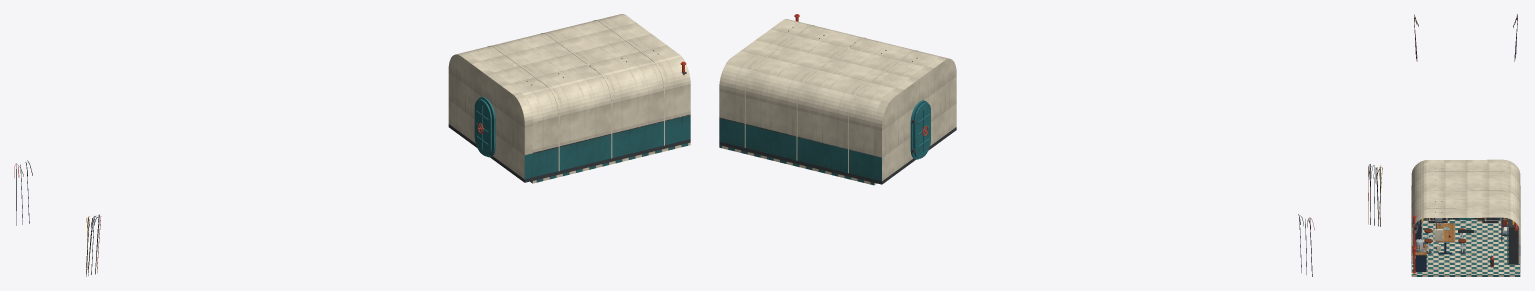
The model's file is CrewMess.glb.
3 renders of one model, left to right at view 1: azimuth 30°, elevation 25°; view 2: azimuth 150°, elevation 25°; view 3: azimuth 270°, elevation 25°, orthographic. The views are drawn at different scales.
Parts seen in each view (by area): view 1: CrewMess_Shell_Body, Bulkhead_2_Body, WatertightDoor_Leaf.002, CrewMess_Shell_Structure, CrewMess_CableLooms_Body, CrewMess_Shell_Floor; view 2: CrewMess_Shell_Body, Bulkhead_2_Body, WatertightDoor_Leaf.002, CrewMess_Shell_Structure, CrewMess_CableLooms_Body, CrewMess_Shell_Floor; view 3: CrewMess_Shell_Body, CrewMess_Shell_Floor, CrewMess_Shell_Structure, Lockers_Body.003, Bulkhead_2_Body, MessTable_Body.001, CoffeeStation_Body.001, PipeRiser_Body.001, CrewMess_CableLooms_Body, BunkBed_Body.002, VentPanel_Body.003, Rack_50_1_Body.002 (+2 smaller).
Part boxes in pixels (<box>): CrewMess_Shell_Body: <box>464,14,690,180</box>; Bulkhead_2_Body: <box>448,52,532,182</box>; WatertightDoor_Leaf.002: <box>474,99,492,156</box>; CrewMess_Shell_Structure: <box>488,19,664,171</box>; CrewMess_CableLooms_Body: <box>14,160,101,276</box>; CrewMess_Shell_Floor: <box>530,142,690,183</box>; CrewMess_Shell_Body: <box>719,19,941,182</box>; Bulkhead_2_Body: <box>874,57,956,184</box>; WatertightDoor_Leaf.002: <box>913,102,930,158</box>; CrewMess_Shell_Structure: <box>744,25,917,173</box>; CrewMess_CableLooms_Body: <box>1298,164,1382,276</box>; CrewMess_Shell_Floor: <box>719,145,876,185</box>; CrewMess_Shell_Body: <box>1411,162,1520,272</box>; CrewMess_Shell_Floor: <box>1411,219,1520,276</box>; CrewMess_Shell_Structure: <box>1411,168,1520,263</box>; Lockers_Body.003: <box>1508,219,1518,264</box>; Bulkhead_2_Body: <box>1411,159,1520,219</box>; MessTable_Body.001: <box>1435,223,1455,254</box>; CoffeeStation_Body.001: <box>1413,238,1426,271</box>; PipeRiser_Body.001: <box>1411,215,1419,273</box>; CrewMess_CableLooms_Body: <box>1414,14,1517,61</box>; BunkBed_Body.002: <box>1500,217,1508,241</box>; VentPanel_Body.003: <box>1434,222,1443,240</box>; Rack_50_1_Body.002: <box>1415,219,1421,240</box>.
Size of the model in its own units: 22.92 by 3.01 by 5.02.
Materials: 54 (32 with a texture image).
